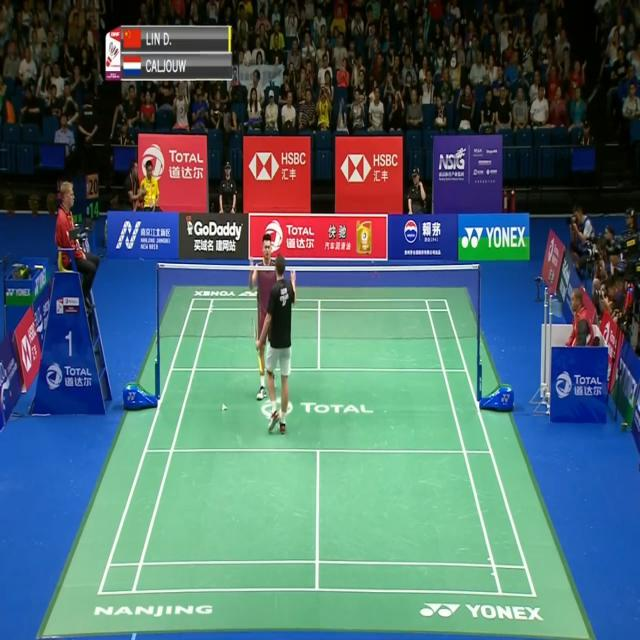Player1: (260, 256, 296, 443)
Player2: (247, 225, 276, 378)
